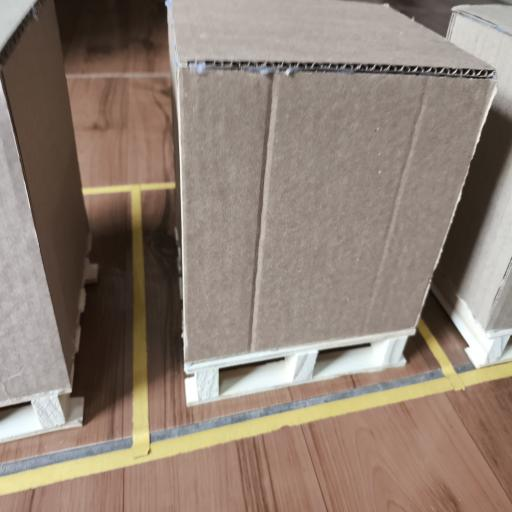pallet: (185, 330, 415, 405), (432, 273, 511, 368), (0, 389, 83, 442)
